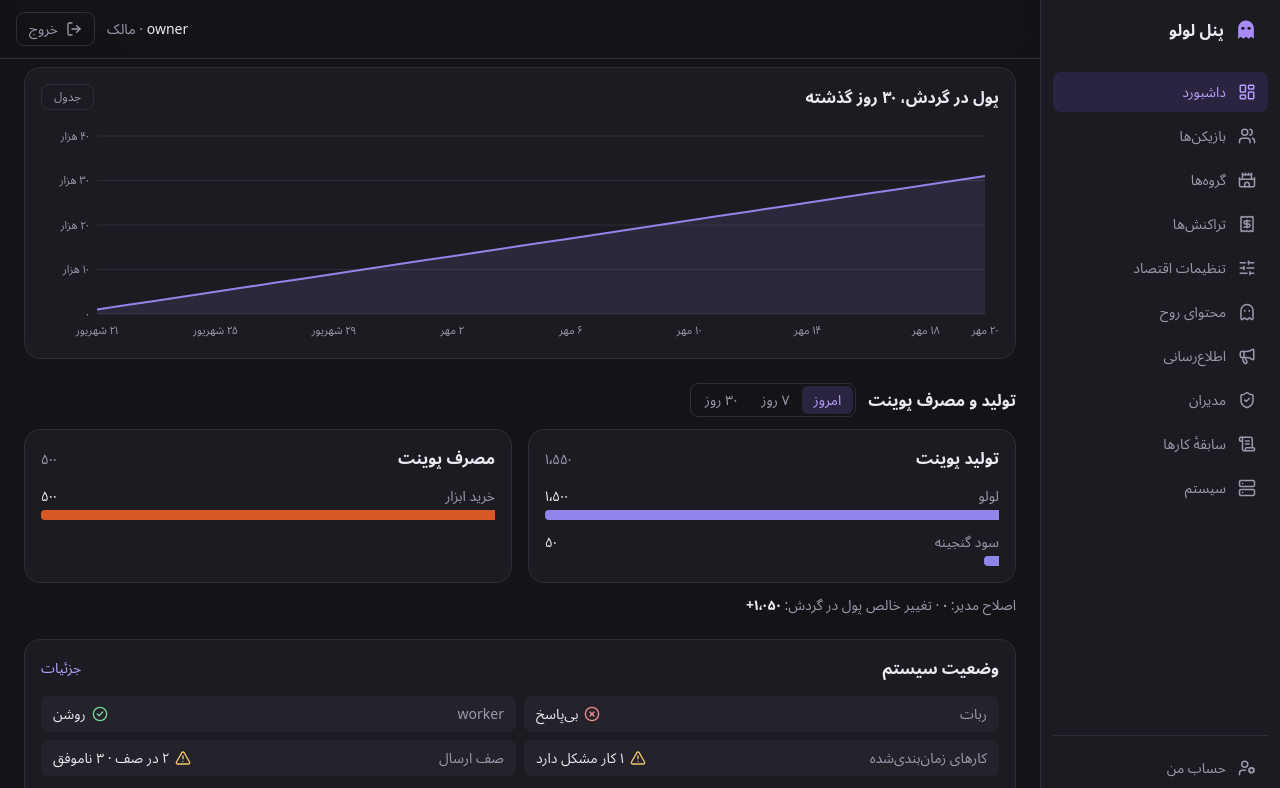
Test: dashboard page › switches the production and consumption period
(page scrolled)
Expected: the text "لولو" is shown, x1=978 y1=486 x2=999 y2=506
Expected: the text "خرید ابزار" is shown, x1=445 y1=486 x2=495 y2=506
Click the radio button labelled "۷ روز": coordinates (775, 400) x1=749 y1=386 x2=802 y2=414
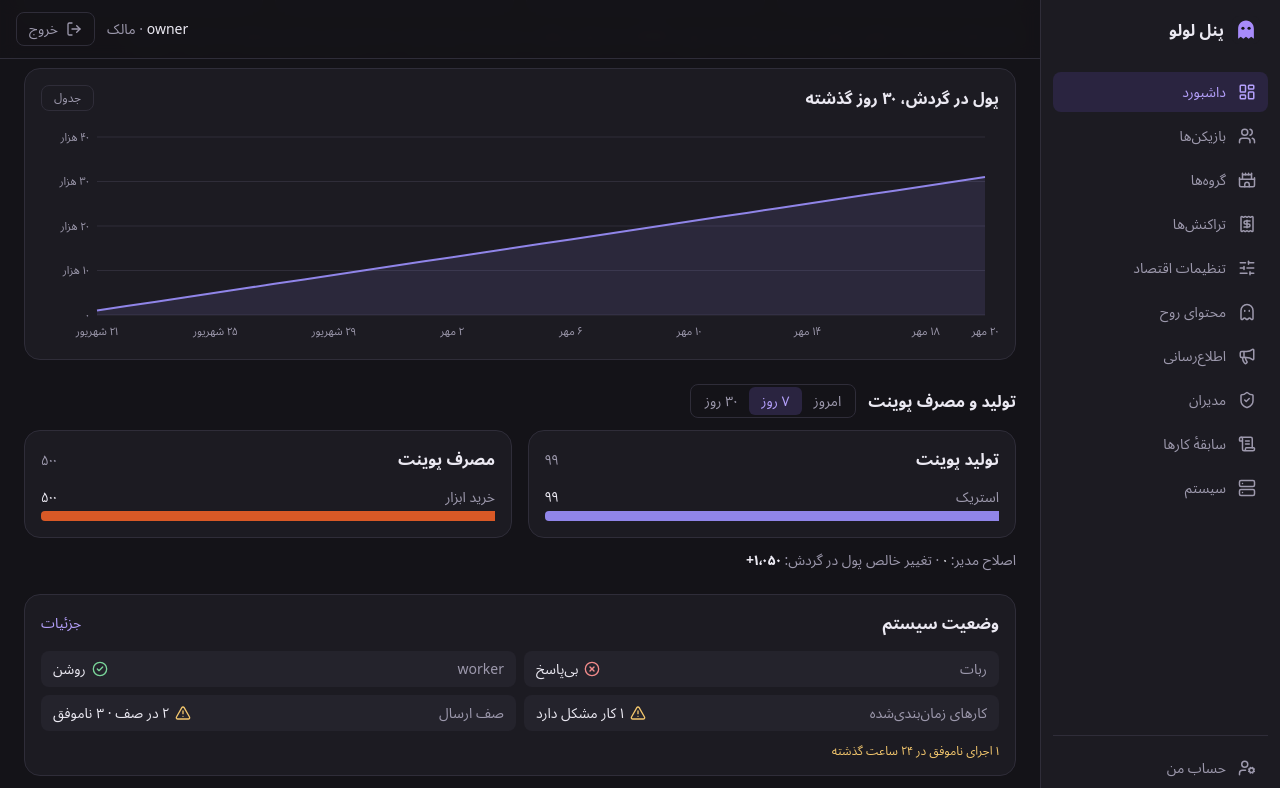
Result: the text "استریک" is shown at x1=956 y1=487 x2=999 y2=507
